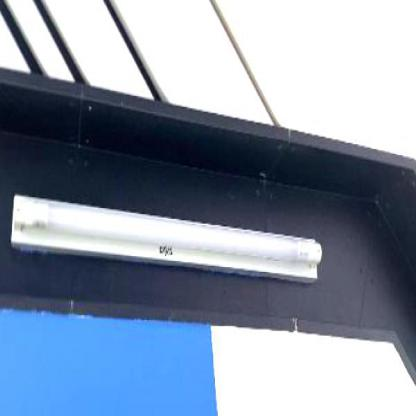light_off: (0, 172, 330, 302), (412, 337, 415, 415)
